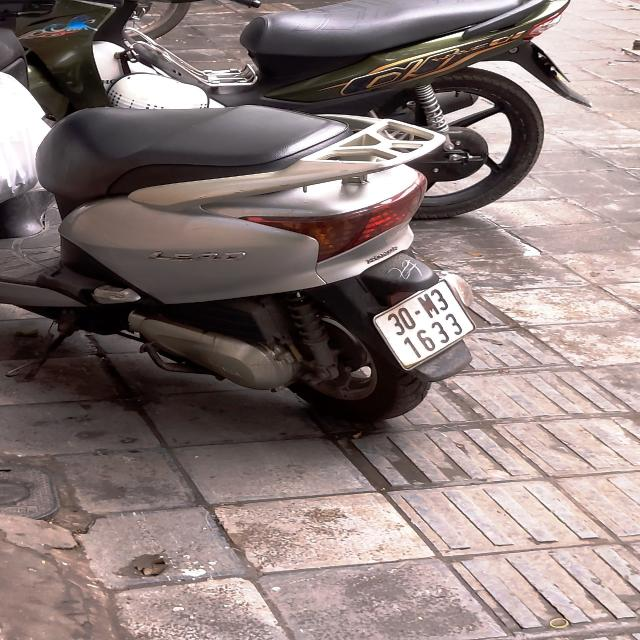license_plate: (369, 275, 486, 377)
